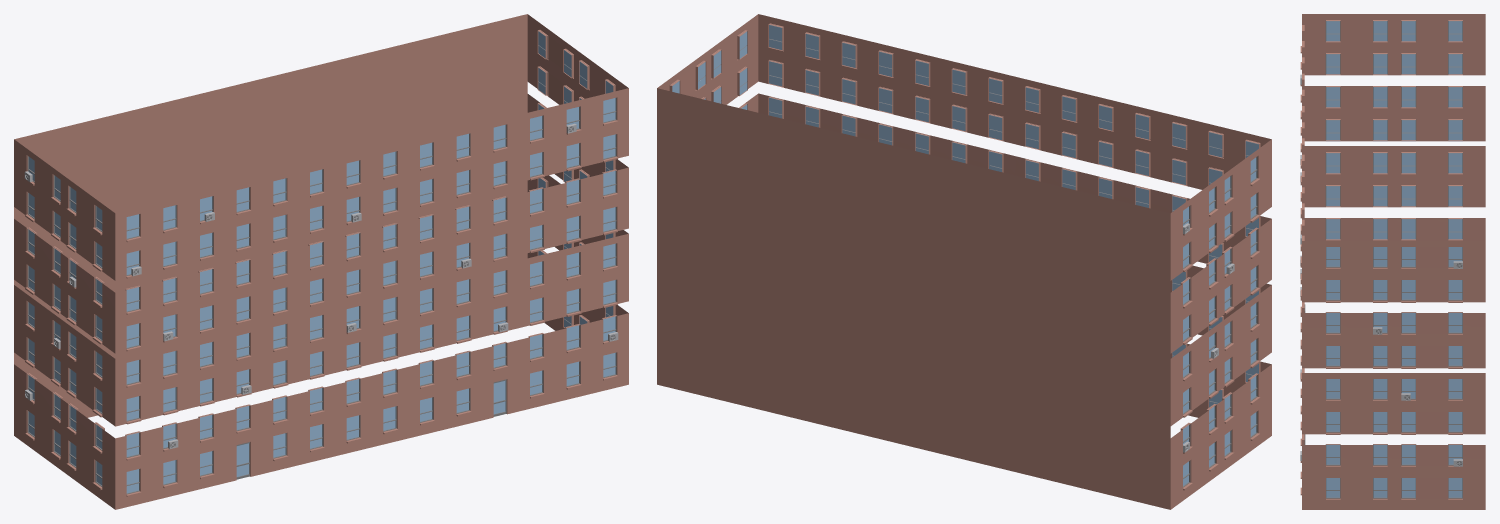
Rendered from cityscene2_22.gltf.
3 renders of one model, left to right at view 1: azimuth 30°, elevation 25°; view 2: azimuth 150°, elevation 25°; view 3: azimuth 270°, elevation 25°, orthographic. The views are drawn at different scales.
Parts seen in each view (by area): view 1: cityscene2_22; view 2: cityscene2_22; view 3: cityscene2_22.
Part boxes in pixels (x1,y1,x2,y2): cityscene2_22: (14,14,628,509); cityscene2_22: (657,14,1271,509); cityscene2_22: (1300,14,1485,509).
Size of the model in its own units: 24.45 by 13.4 by 8.38.
